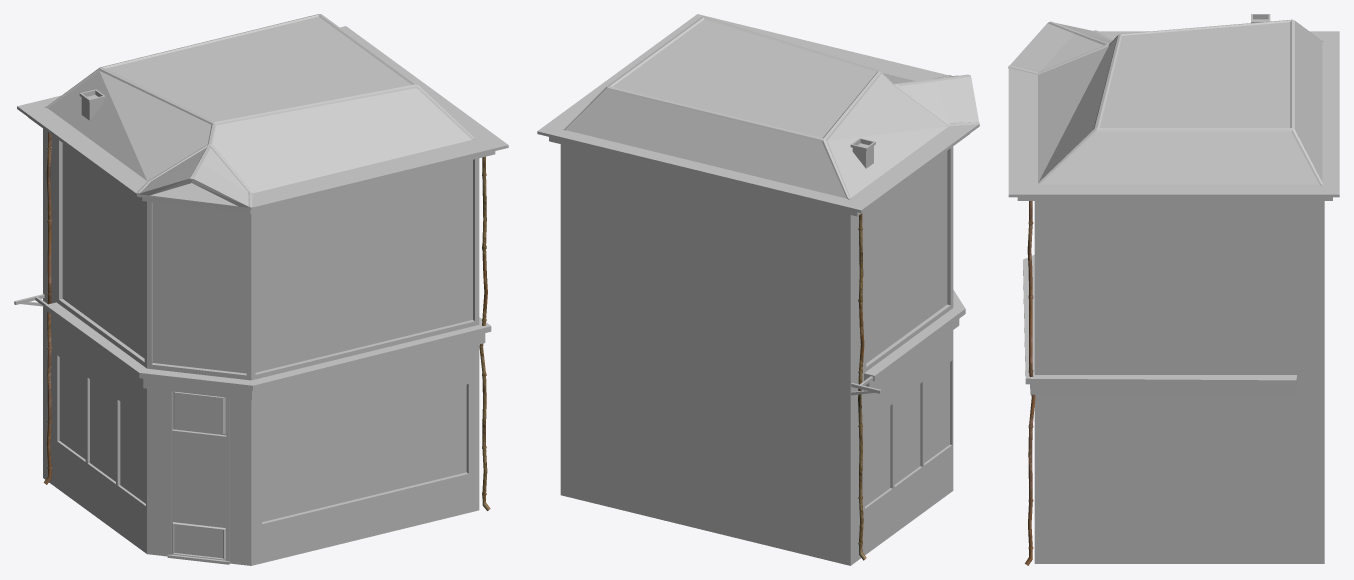
File: building_1.obj
3 views of the same model, side by side, from view 1: azimuth 30°, elevation 25°; view 2: azimuth 150°, elevation 25°; view 3: azimuth 270°, elevation 25° (orthographic). The views are drawn at different scales.
Visible parts, largest first — view 1: Box001, Cylinder002; view 2: Box001, Cylinder002; view 3: Box001, Cylinder002.
Part boxes in pixels (x1,y1,x2,y2): Box001: (14, 14, 508, 565); Cylinder002: (44, 132, 490, 510); Box001: (537, 14, 979, 565); Cylinder002: (858, 213, 866, 560); Box001: (1008, 14, 1339, 563); Cylinder002: (1025, 201, 1035, 565).
Size of the model in its own units: 169 by 195 by 140.
